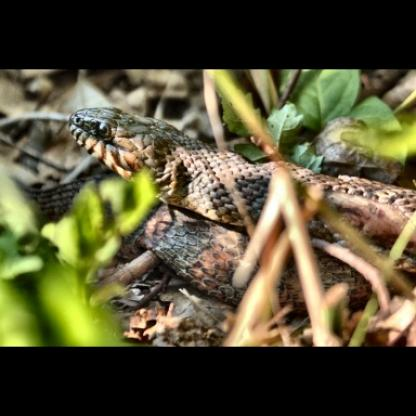Snake: (58, 90, 294, 331)
